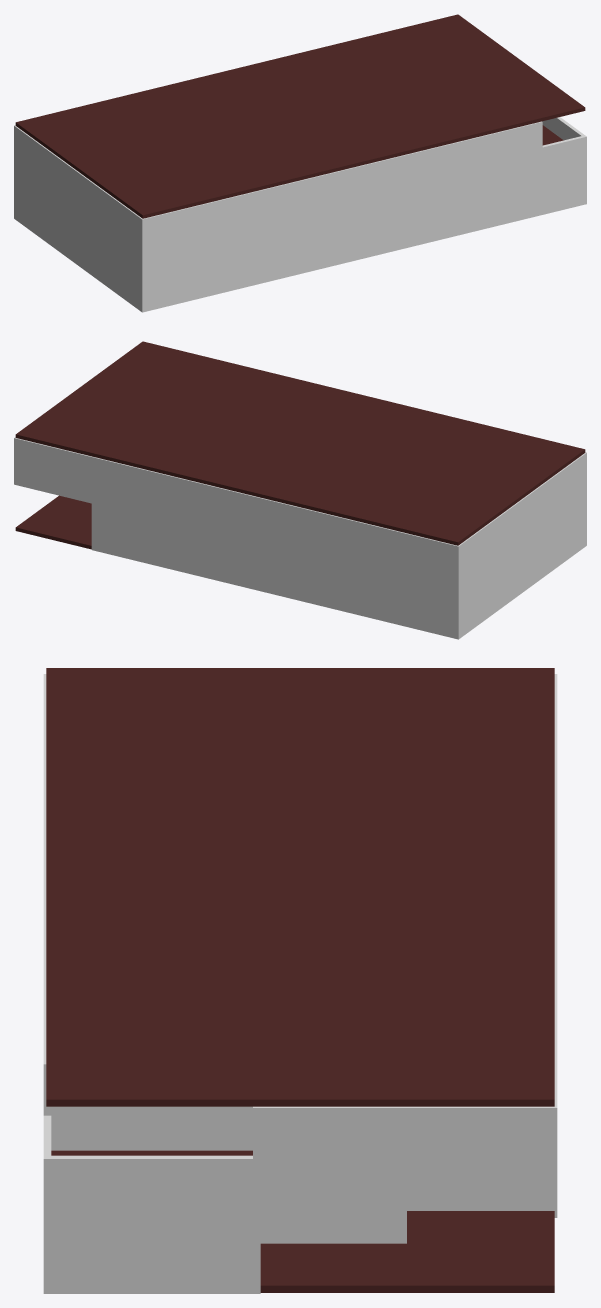
File: casa.glb
3 renders of one model, top to bottom at view 1: azimuth 30°, elevation 25°; view 2: azimuth 150°, elevation 25°; view 3: azimuth 270°, elevation 25°, orthographic. The views are drawn at different scales.
Parts seen in each view (by area): view 1: teto, esq.001, fundo.001, esq.002, parapeito.002, parapeito.001; view 2: teto, dir.002, dir.001, fundo.001, piso.001; view 3: teto, frente.003, frente.004, piso.001, frente.005, parapeito.001, frente.002, dir.002, esq.001, frente.001, piso.002, esq.002 (+1 smaller).
Part boxes in pixels (box(x1,y1,x2,y2)): teto: box(15, 14, 585, 218); esq.001: box(140, 121, 542, 312); fundo.001: box(16, 127, 140, 310); esq.002: box(542, 154, 586, 214); parapeito.002: box(542, 135, 586, 164); parapeito.001: box(542, 117, 584, 140); teto: box(15, 341, 585, 545); dir.002: box(14, 437, 460, 592); dir.001: box(91, 503, 460, 639); fundo.001: box(460, 454, 584, 637); piso.001: box(15, 495, 91, 549); teto: box(46, 668, 554, 1106); frente.003: box(260, 1106, 549, 1200); frente.004: box(51, 1194, 252, 1293); piso.001: box(260, 1211, 554, 1292); frente.005: box(51, 1106, 252, 1150); parapeito.001: box(51, 1155, 252, 1193); frente.002: box(260, 1201, 399, 1243); dir.002: box(549, 674, 557, 1200); esq.001: box(43, 674, 51, 1115); frente.001: box(407, 1201, 549, 1210); piso.002: box(51, 1150, 252, 1155); esq.002: box(43, 1194, 51, 1293).
Bounding box in the file's own units: 40 × 8.3 × 20.
